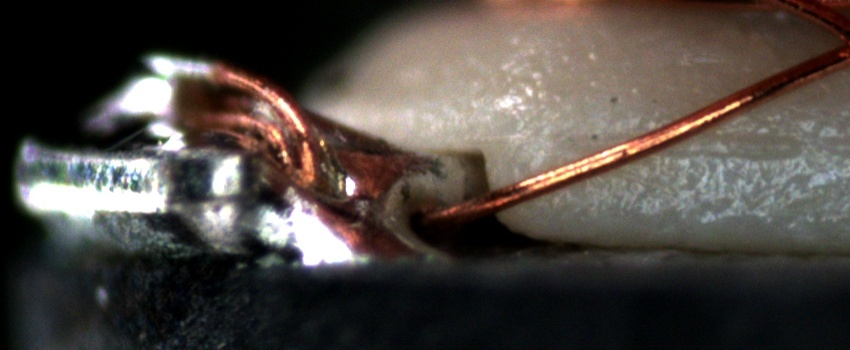DL: (556, 117, 850, 181)
TE: (150, 55, 341, 199)
